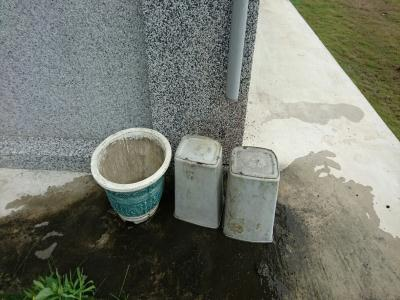bowl: (89, 127, 174, 226)
bucket: (220, 144, 282, 247), (171, 133, 226, 233)
